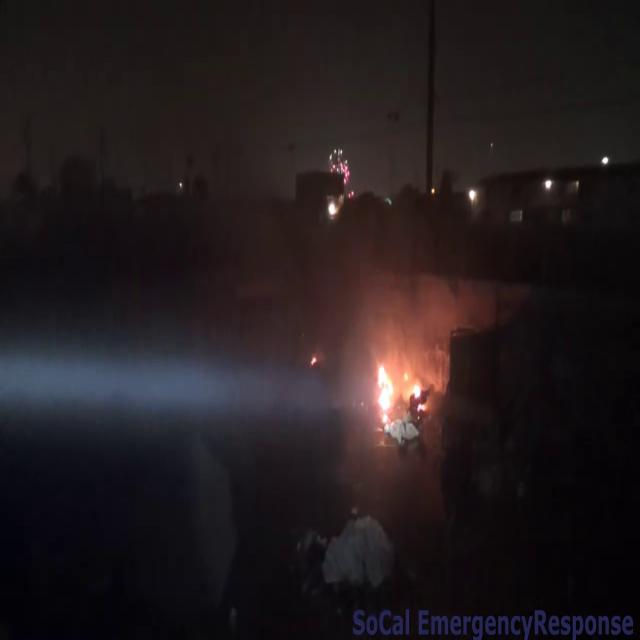Fire: (372, 344, 428, 423)
